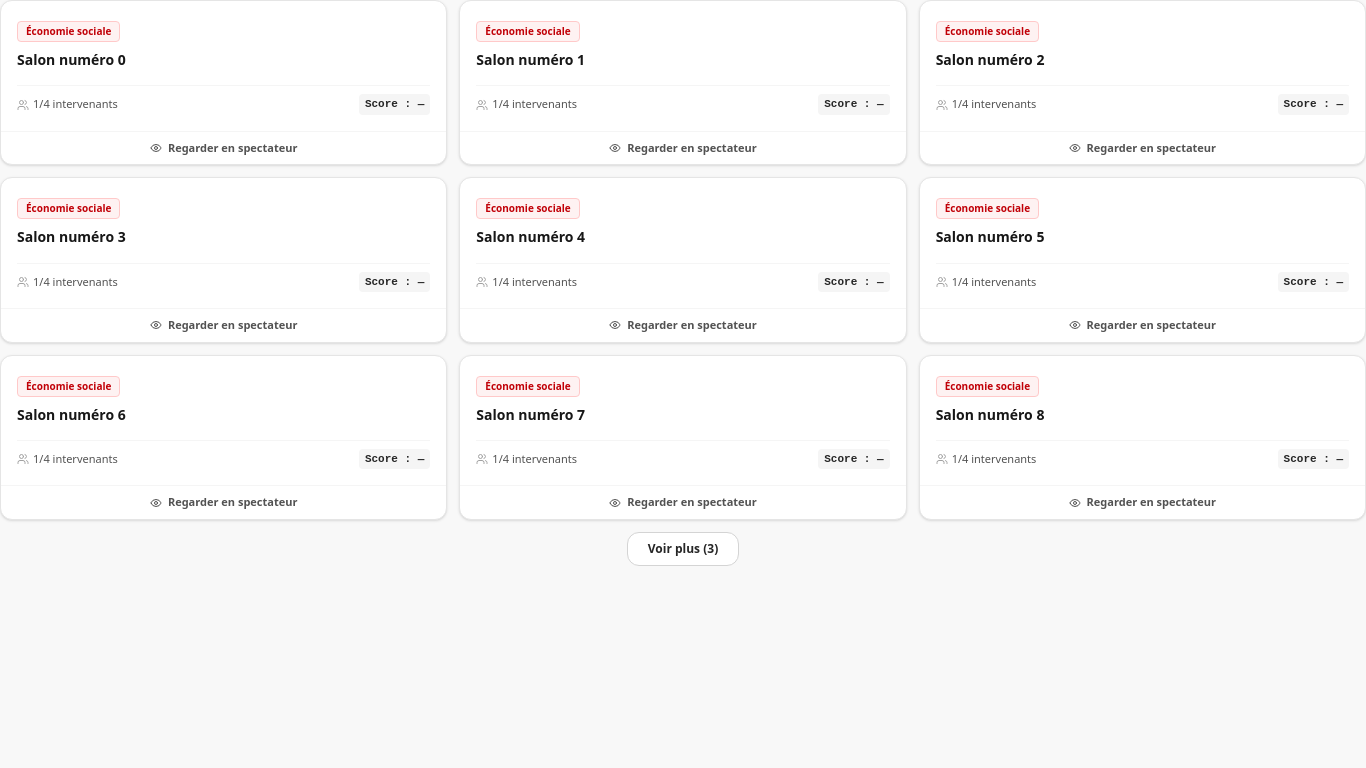
RoomList : filtre par thème et « Voir plus » › affiche 9 salons puis le reste au clic
Click the button "Voir plus (3)": click(683, 549) [627,532,739,566]
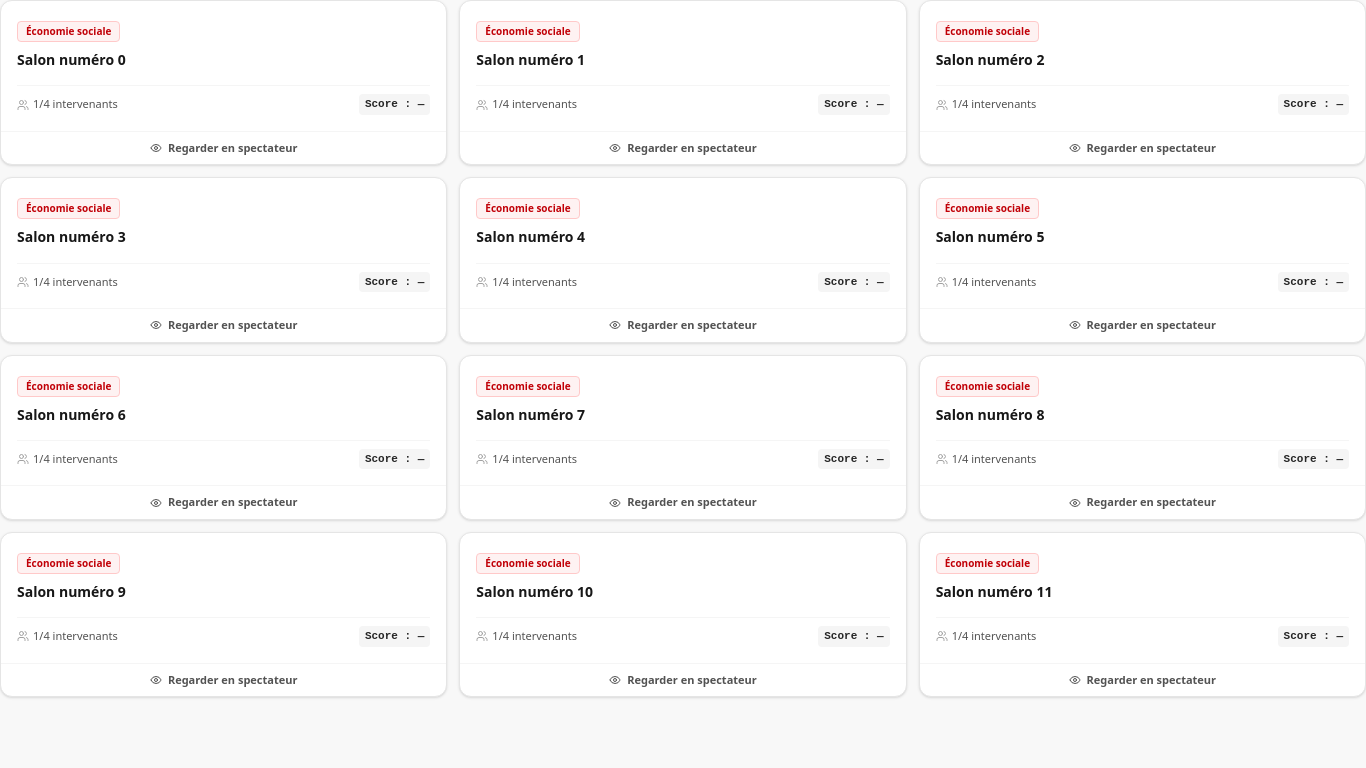
Expected: the number of links "Économie sociale Salon numéro 0 1/4 intervenants Score : —" is 12
Expected: the button "Voir plus" is gone
